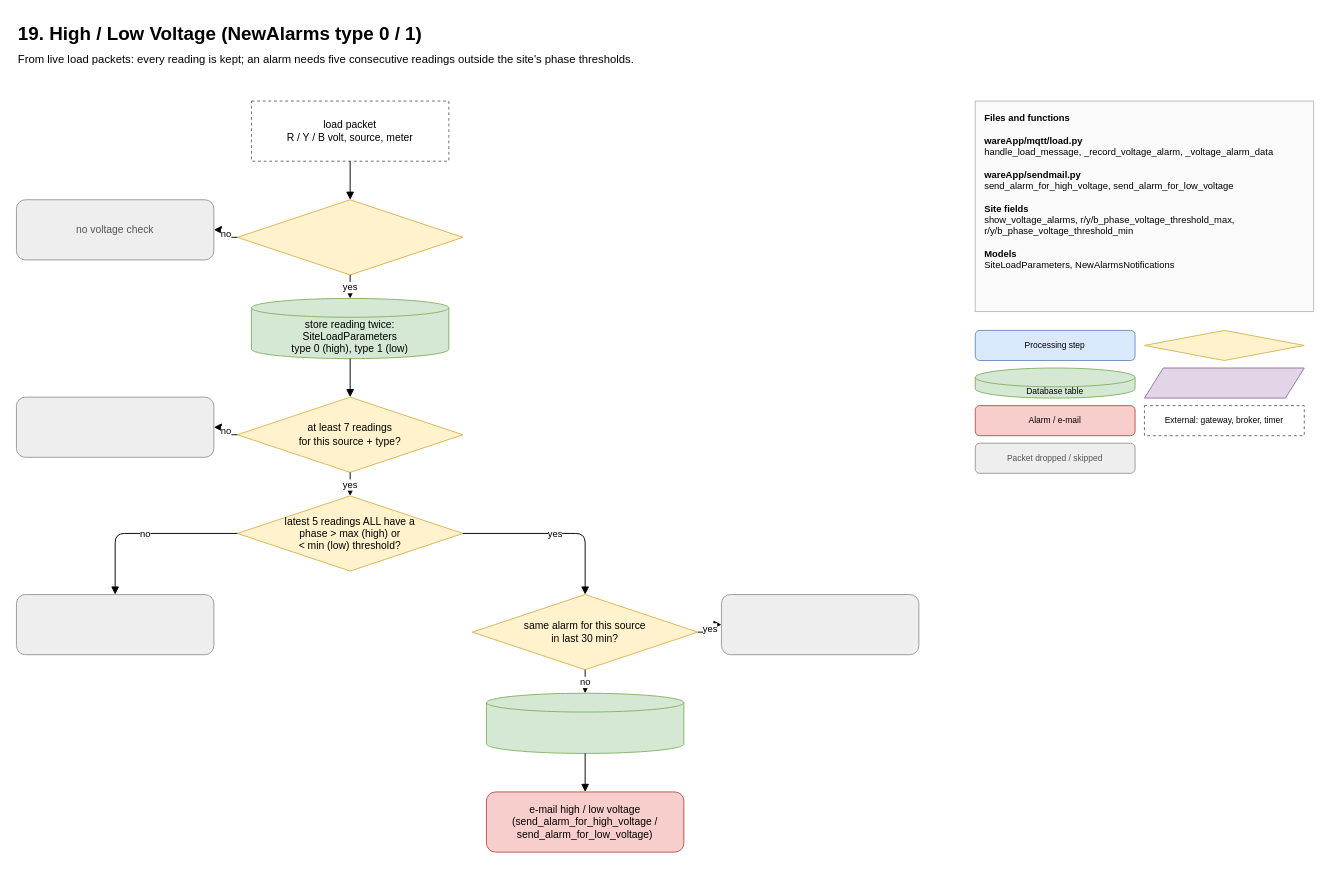
This 1330x869 diagram has some shape labels left out. The box of each missing label's shape, as (x1, y1, x2, y2) in pixels:
Decision: (1144, 329, 1304, 360)
NewAlarmsNotifications 0 High / 1 Low Voltage R/Y/B values: (486, 692, 684, 753)
no alarm: (16, 594, 214, 655)
RabbitMQ queue / MQTT topic: (1144, 367, 1304, 398)
site.show_voltage_alarms and all phases > 0?: (236, 199, 463, 275)
skip (30 min): (721, 594, 919, 655)
wait for more readings: (16, 396, 214, 457)
